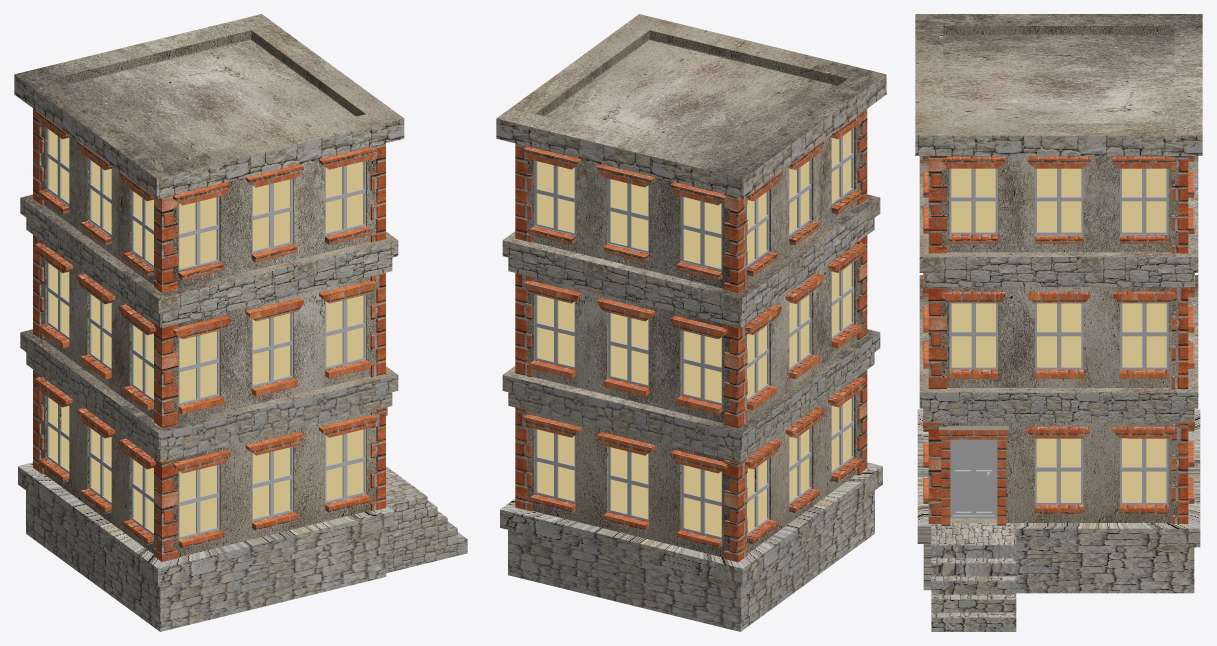
Rendered from build2.gltf.
3 views of the same model, side by side, from view 1: azimuth 30°, elevation 25°; view 2: azimuth 150°, elevation 25°; view 3: azimuth 270°, elevation 25° (orthographic).
Parts seen in each view (by area): view 1: Cube, Cube.019, Cube.015, Cube.016, Cube.021, Cube.022, Cube.014, Cube.018, Cube.017; view 2: Cube, Cube.019, Cube.015, Cube.016, Cube.021, Cube.022, Cube.014; view 3: Cube, Cube.019, Cube.016, Cube.015, Cube.021, Cube.014, Cube.022, Cube.017, Cube.020, Cube.011, Cube.012.
Part boxes in pixels (x1,y1,x2,y2): Cube: [15, 14, 403, 557]; Cube.019: [14, 74, 404, 462]; Cube.015: [49, 130, 363, 536]; Cube.016: [18, 462, 394, 631]; Cube.021: [34, 110, 377, 548]; Cube.022: [47, 128, 366, 539]; Cube.014: [33, 108, 385, 561]; Cube.018: [386, 496, 467, 572]; Cube.017: [386, 466, 467, 541]; Cube: [496, 14, 885, 557]; Cube.019: [496, 74, 886, 462]; Cube.015: [537, 130, 851, 536]; Cube.016: [500, 462, 882, 631]; Cube.021: [523, 110, 866, 548]; Cube.022: [534, 128, 853, 539]; Cube.014: [515, 109, 867, 562]; Cube: [915, 14, 1202, 527]; Cube.019: [915, 135, 1202, 422]; Cube.016: [917, 409, 1200, 631]; Cube.015: [951, 168, 1166, 501]; Cube.021: [923, 156, 1194, 514]; Cube.014: [928, 156, 1188, 523]; Cube.022: [949, 168, 1168, 504]; Cube.017: [931, 523, 1016, 617]; Cube.020: [950, 439, 997, 518]; Cube.011: [941, 439, 1006, 525]; Cube.012: [939, 426, 1008, 439].
Bounding box in the file's own units: 6.02 × 8.27 × 4.67.
